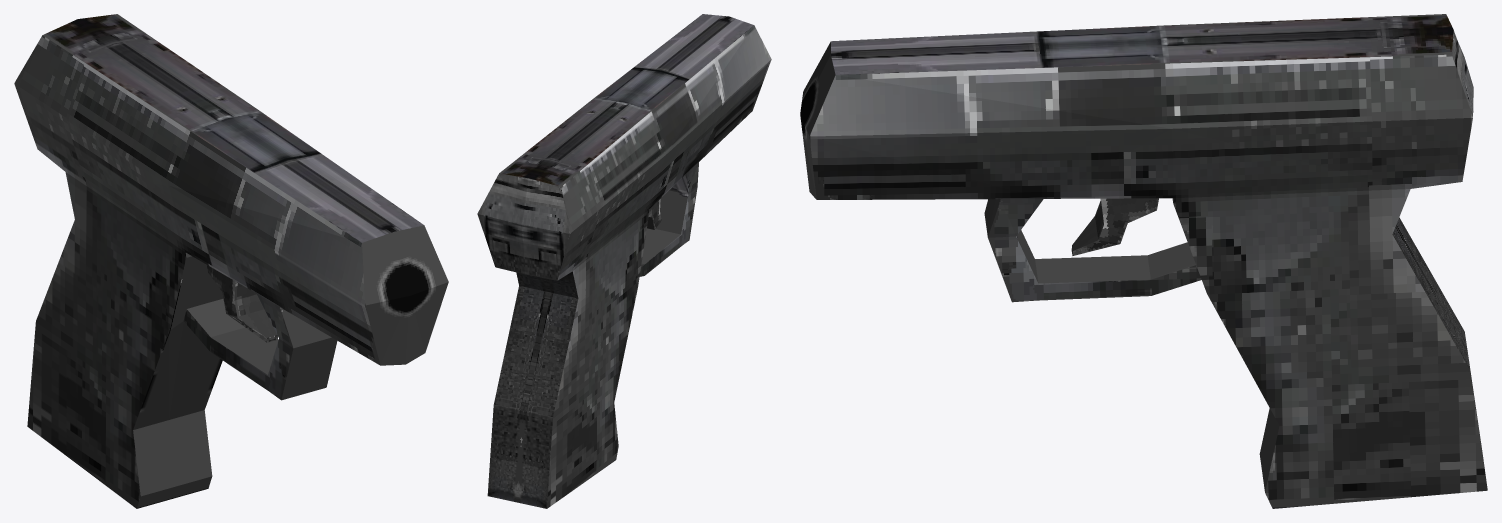
File: pistol_00.glb
3 renders of one model, left to right at view 1: azimuth 30°, elevation 25°; view 2: azimuth 150°, elevation 25°; view 3: azimuth 270°, elevation 25°, orthographic. The views are drawn at different scales.
Parts seen in each view (by area): view 1: pistol; view 2: pistol; view 3: pistol.
Boxes of the visible parts, box(x1,y1,x2,y2) form: pistol: box(14, 14, 448, 508); pistol: box(477, 14, 771, 508); pistol: box(800, 14, 1487, 508).
Bounding box in the file's own units: 0.7448 × 2.27 × 3.11.
1 material, 1 textured.
